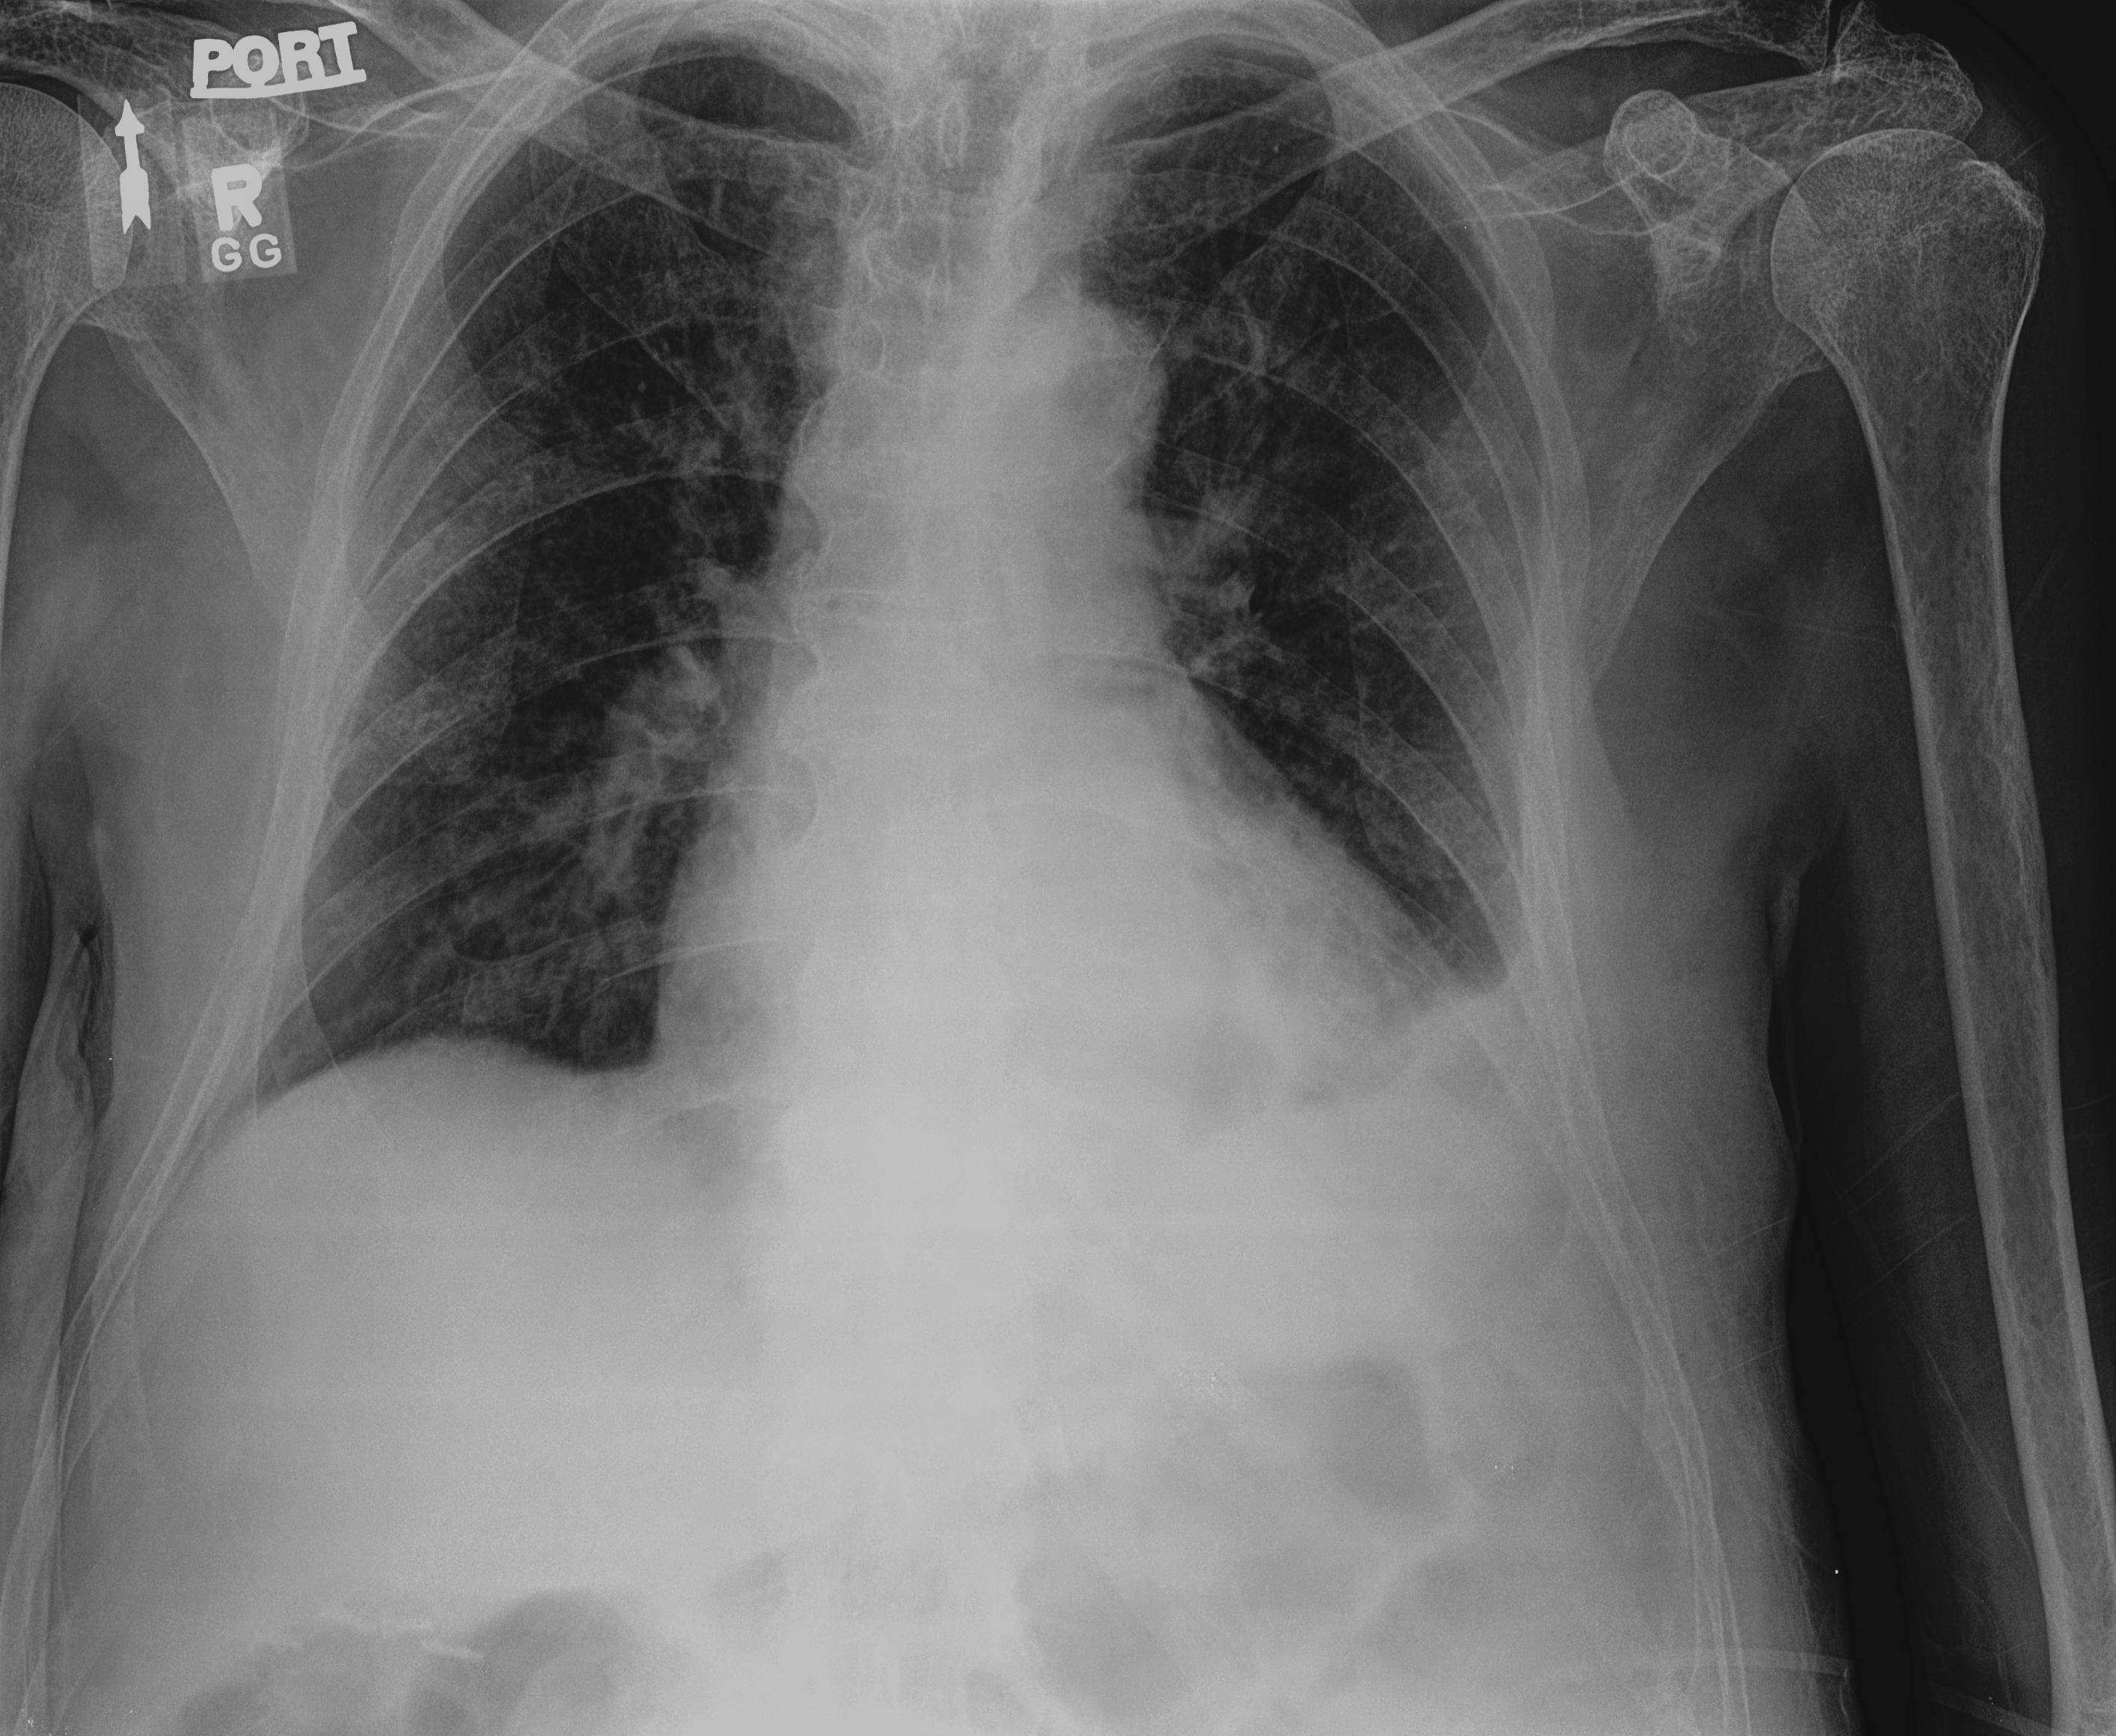Pleural Effusion: (1209, 942, 1615, 1355)
